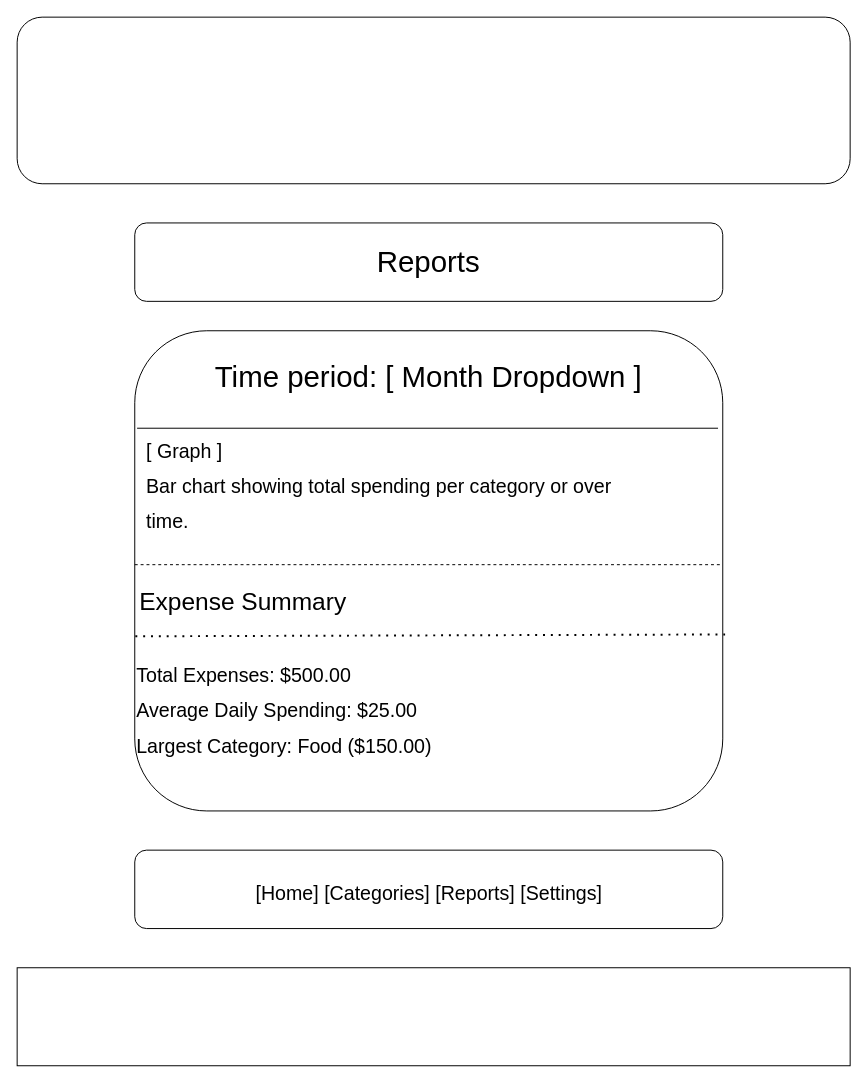
Some shapes in this 867 by 1083 pixel diagram are drawn without their labels. The shapes that lost their labels are listed below. From the top down, each one's box as (x1, y1, x2, y2) in pixels, then its label:
(16, 16, 850, 184): TrackIt
(16, 967, 850, 1066): Lorem Ipsum
